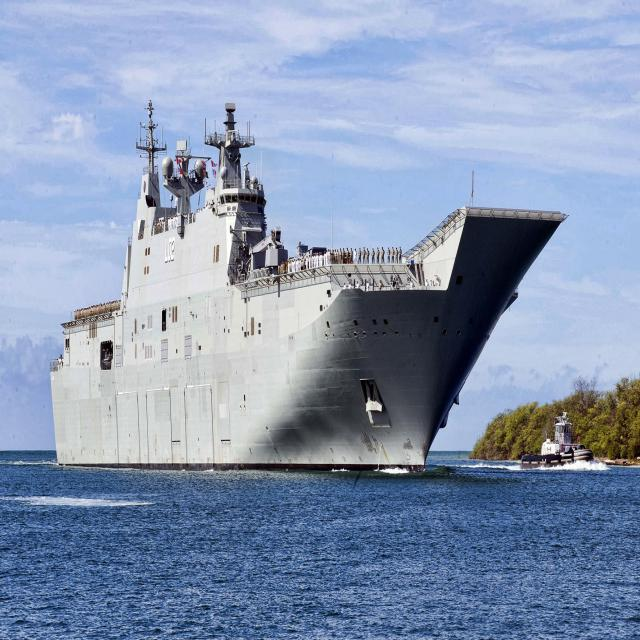Portanaves: (48, 99, 570, 484)
